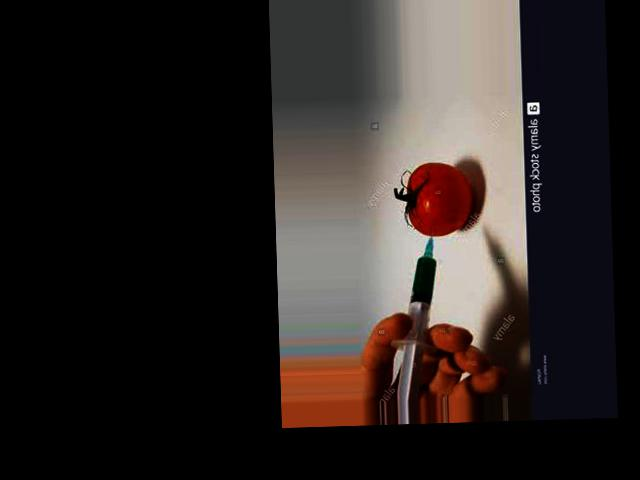tomato: (406, 162, 473, 237)
